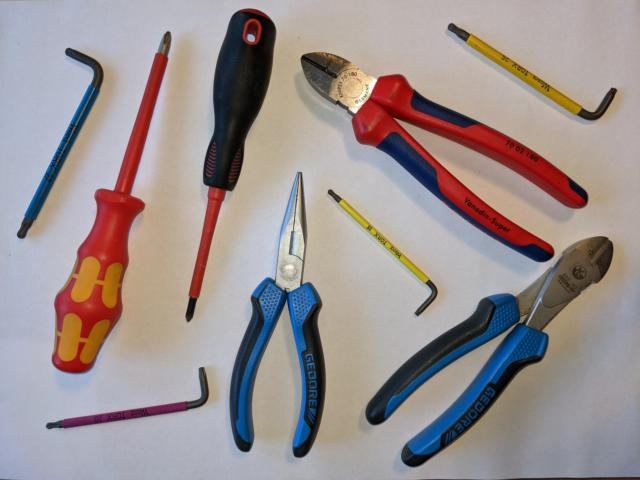Inbusschlüssel: (13, 45, 108, 242), (444, 19, 620, 124), (324, 187, 441, 318), (41, 364, 213, 433)
Schraubendreher: (47, 27, 176, 376), (181, 4, 280, 326)
Seitenschneider: (297, 48, 592, 265), (362, 233, 617, 470)
Zange: (225, 170, 331, 461)
